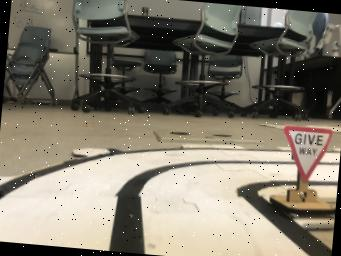give_way: (269, 126, 335, 214), (269, 126, 335, 214), (269, 126, 335, 214), (269, 126, 335, 214), (269, 126, 335, 214), (269, 126, 335, 214)
street: (0, 149, 331, 256), (0, 149, 331, 256), (0, 149, 331, 256), (0, 149, 331, 256), (0, 149, 331, 256), (0, 149, 331, 256)
